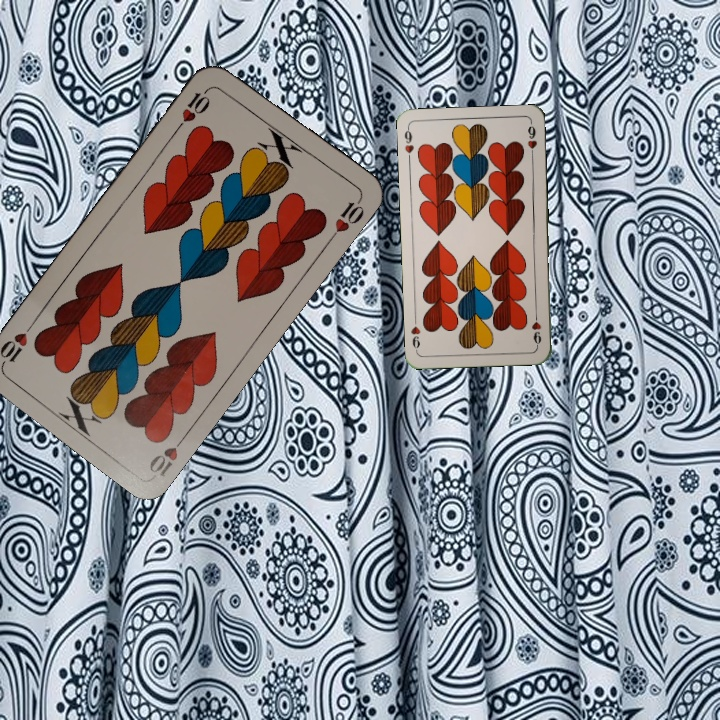H10: (144, 429, 191, 481), (172, 83, 214, 133)
H9: (528, 308, 544, 348), (400, 124, 416, 164)
